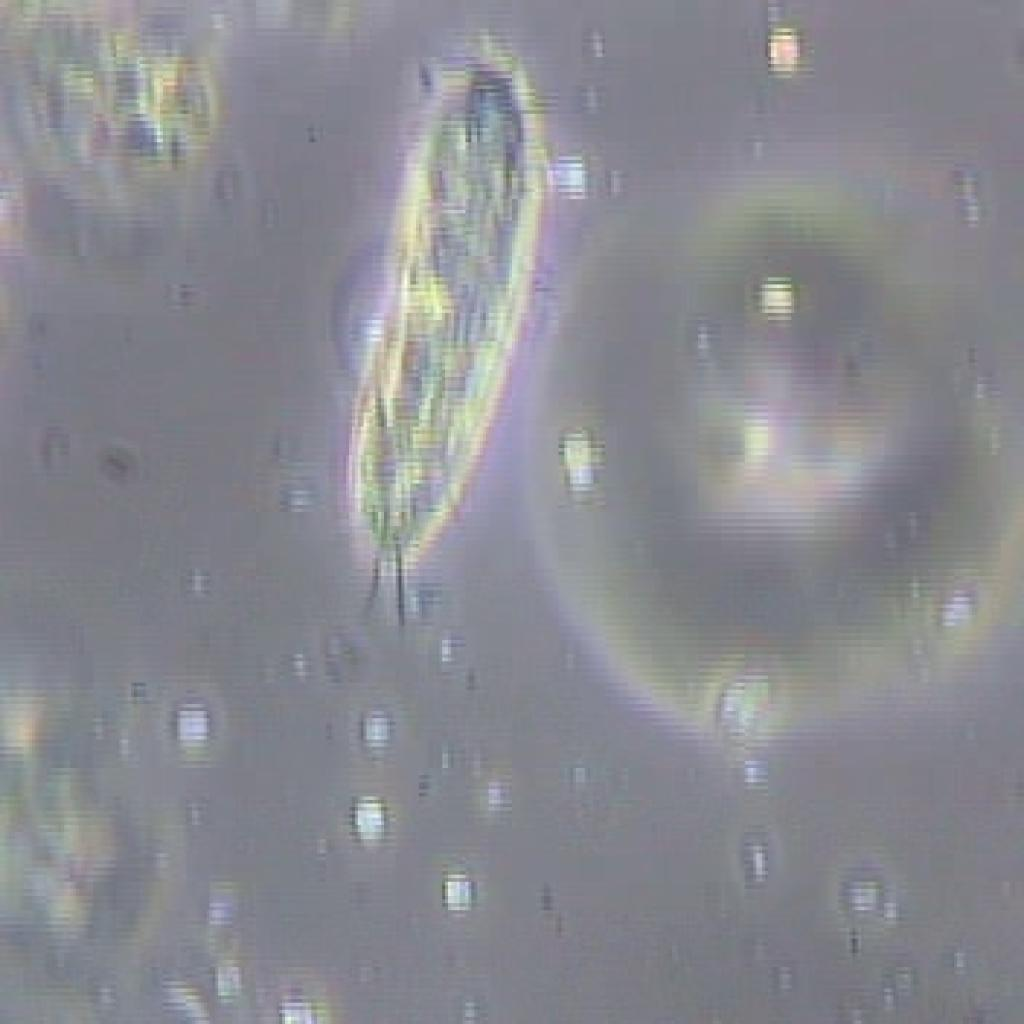Stylonychia: (310, 32, 563, 658)
